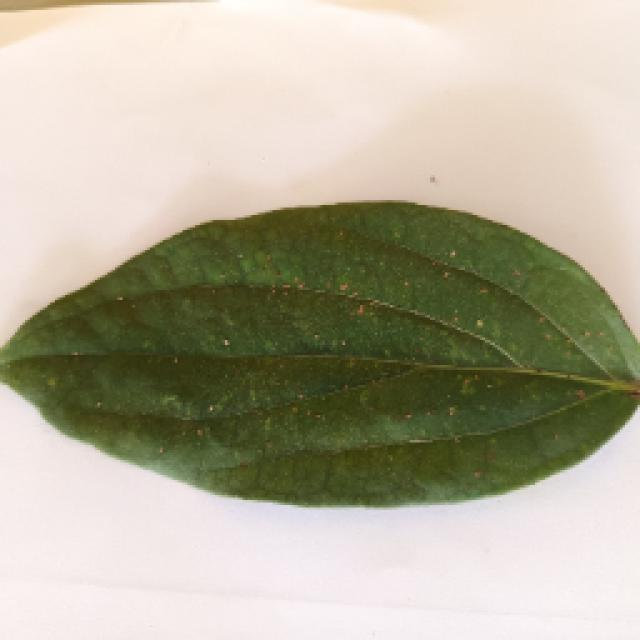pollu-disease: (0, 190, 625, 548)
